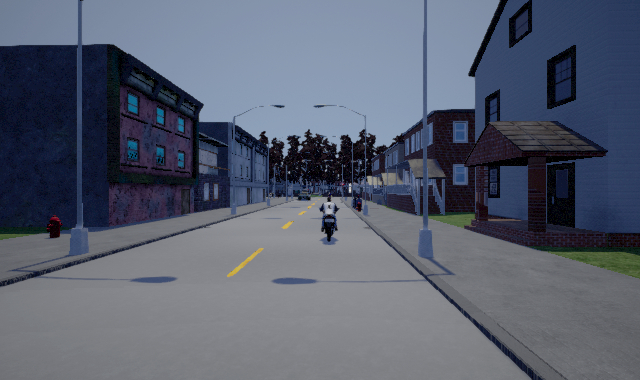motobike: (318, 195, 339, 242)
